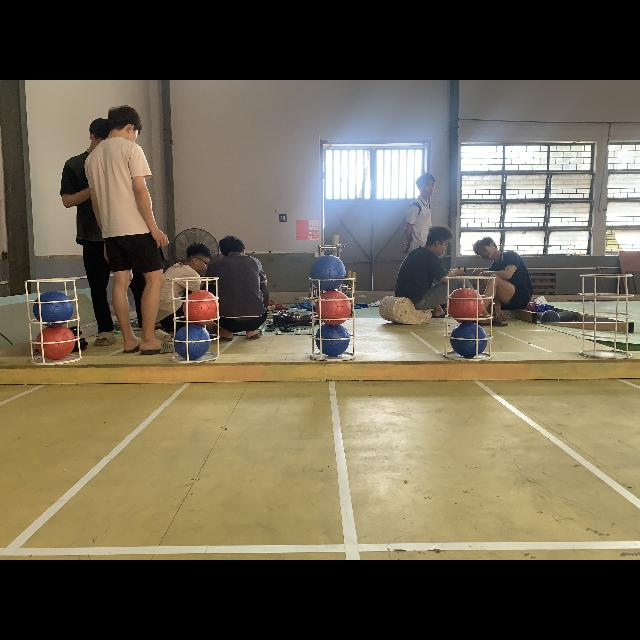B: (34, 290, 74, 328), (450, 322, 488, 358), (309, 255, 346, 289), (176, 325, 210, 359), (316, 324, 349, 356)
R: (37, 322, 77, 360), (182, 290, 220, 326), (315, 290, 353, 326), (446, 288, 484, 322)
